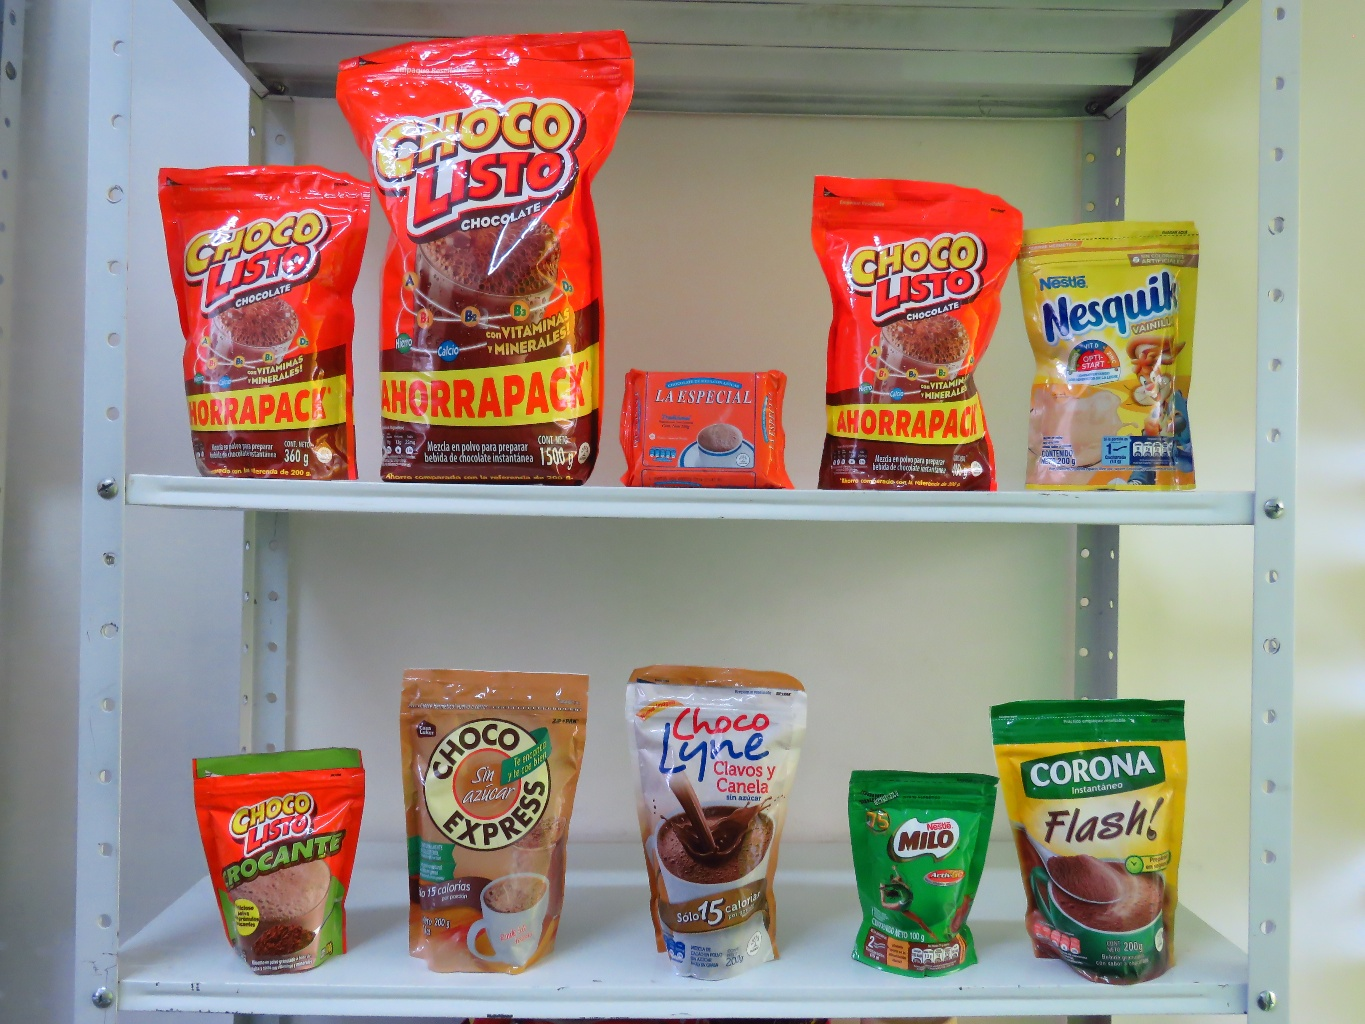COL0170102DYP10000: (175, 725, 376, 989)
COL0170103DYP1,500: (311, 4, 660, 504)
COL0170103DYP36000: (118, 140, 376, 485)
COL0170103DYP40000: (792, 165, 1032, 501)
COL0170203DYP10000: (823, 748, 1014, 989)
COL0170306DYP20000: (998, 191, 1220, 520)
